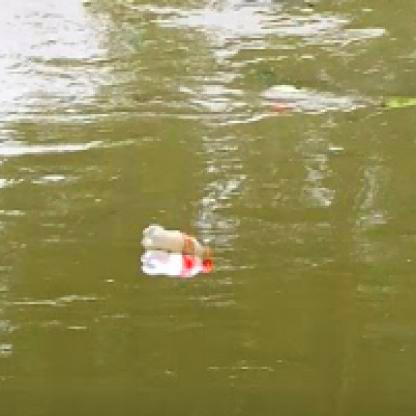Plastic: (139, 249, 216, 277)
